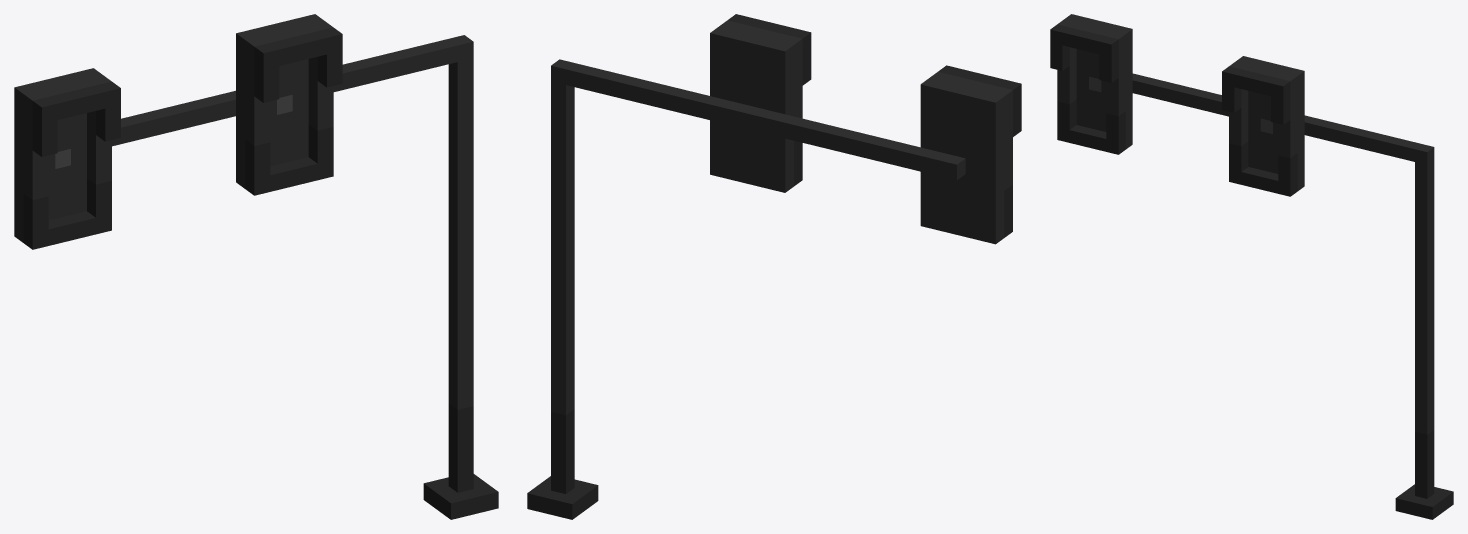
File: ConstructionMaterials-60.obj
The picture shows the model from 3 angles, left to right: view 1: azimuth 30°, elevation 25°; view 2: azimuth 150°, elevation 25°; view 3: azimuth 330°, elevation 25°; orthographic projection. The views are drawn at different scales.
Size of the model in its own units: 3 by 3.2 by 0.5.
1 material, 1 textured.
